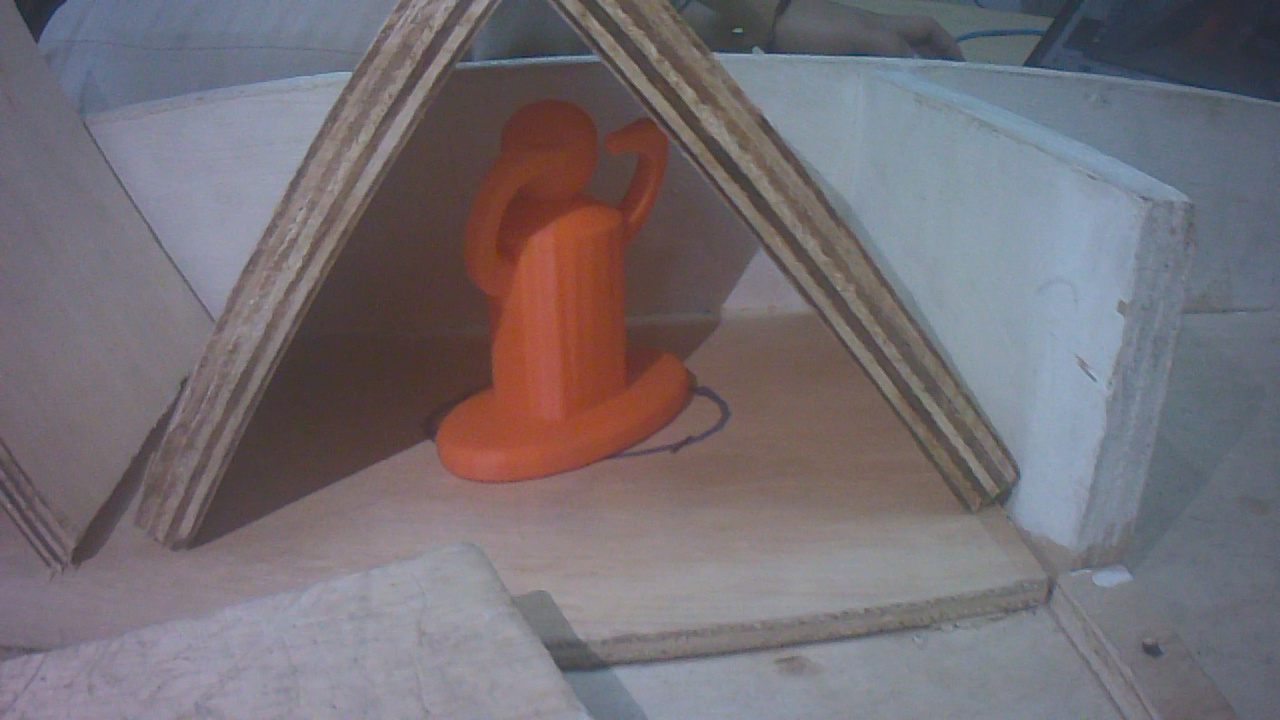real: (439, 92, 698, 488)
